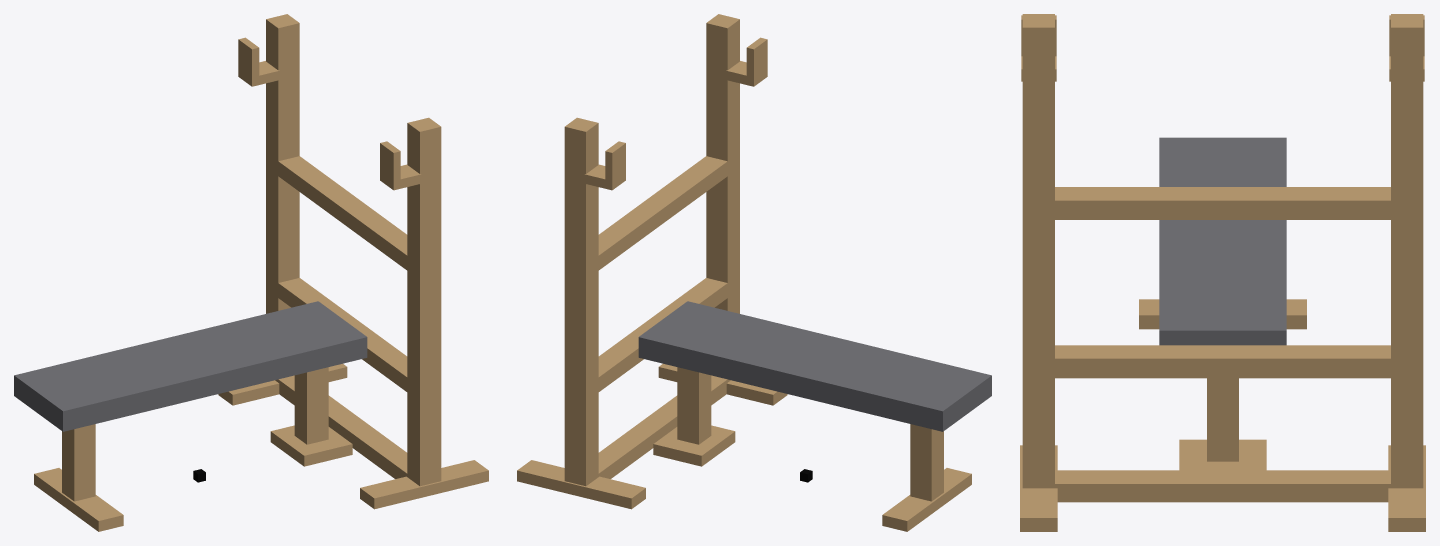
File: Starter_Bench.fbx
3 views of the same model, side by side, from view 1: azimuth 30°, elevation 25°; view 2: azimuth 150°, elevation 25°; view 3: azimuth 270°, elevation 25° (orthographic). The views are drawn at different scales.
Parts seen in each view (by area): view 1: Starter_Frame, Starter_Pad; view 2: Starter_Frame, Starter_Pad; view 3: Starter_Frame, Starter_Pad.
Part boxes in pixels (x1,y1,x2,y2): Starter_Frame: (34,14,488,531); Starter_Pad: (14,301,367,431); Starter_Frame: (517,14,971,531); Starter_Pad: (638,301,991,431); Starter_Frame: (1020,14,1425,531); Starter_Pad: (1159,137,1286,345).
Bounding box in the file's own units: 4.66 × 4.42 × 3.38.
